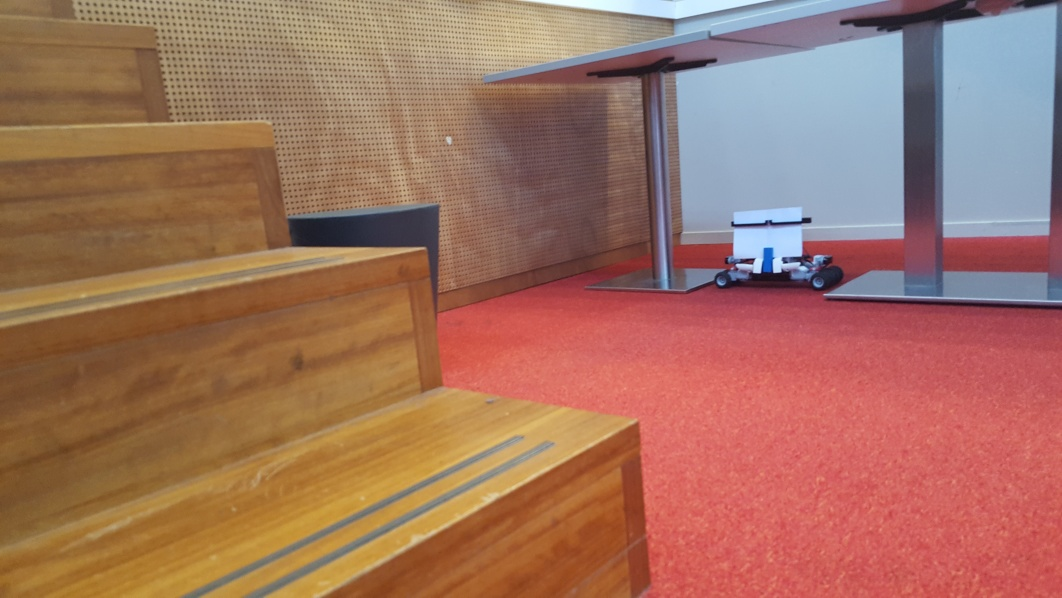car: (716, 207, 846, 294)
